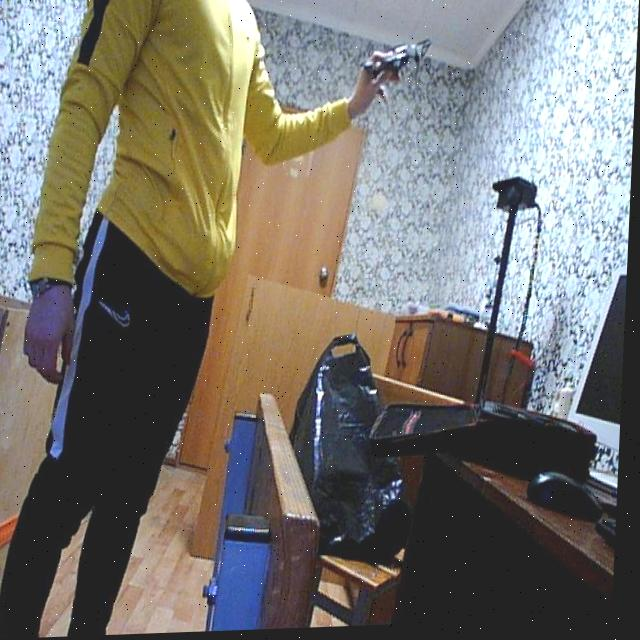drone: (351, 30, 442, 101)
